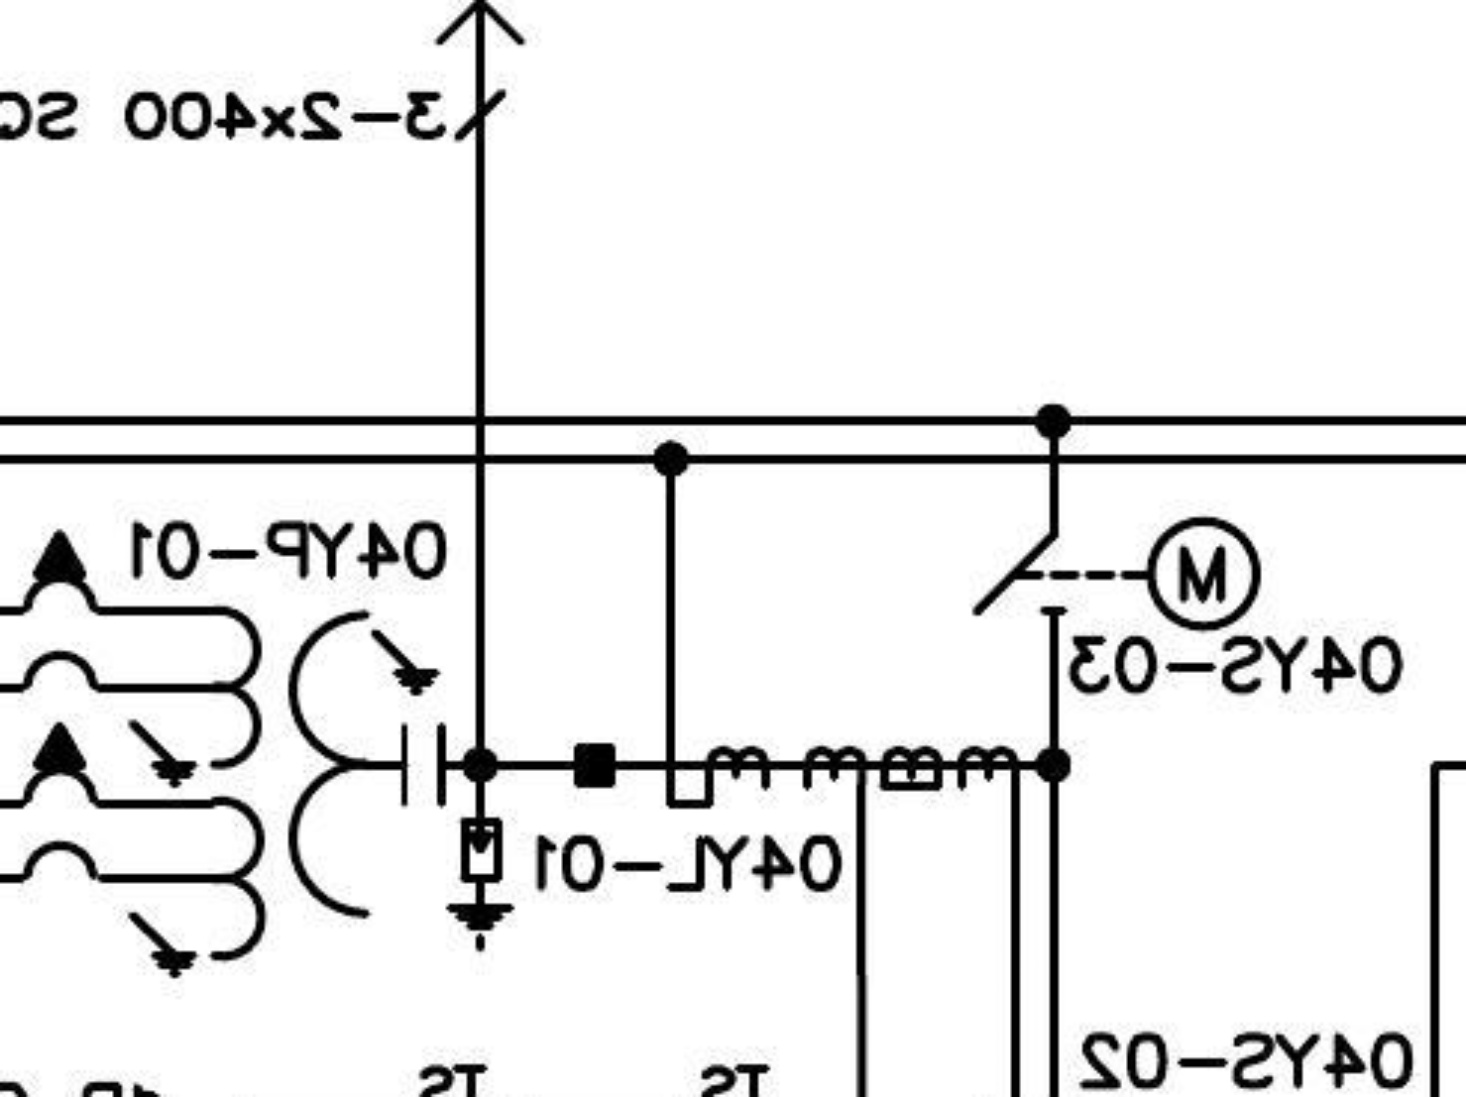115_1way_ds_w_motor: (970, 513, 1263, 634)
115_cvt_1p: (15, 528, 448, 982)
115_la: (445, 817, 516, 954)
